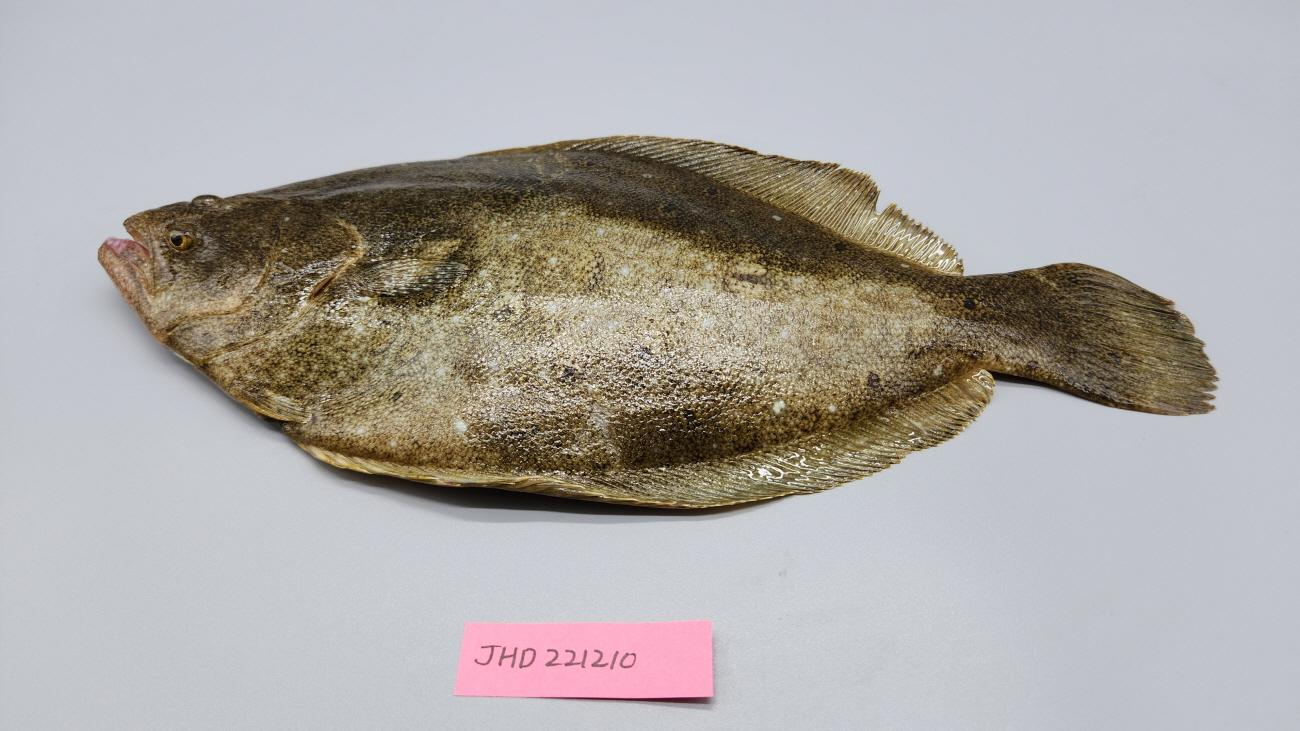MAMOU: (104, 239, 135, 256)
MAOUY: (97, 133, 1220, 511)
